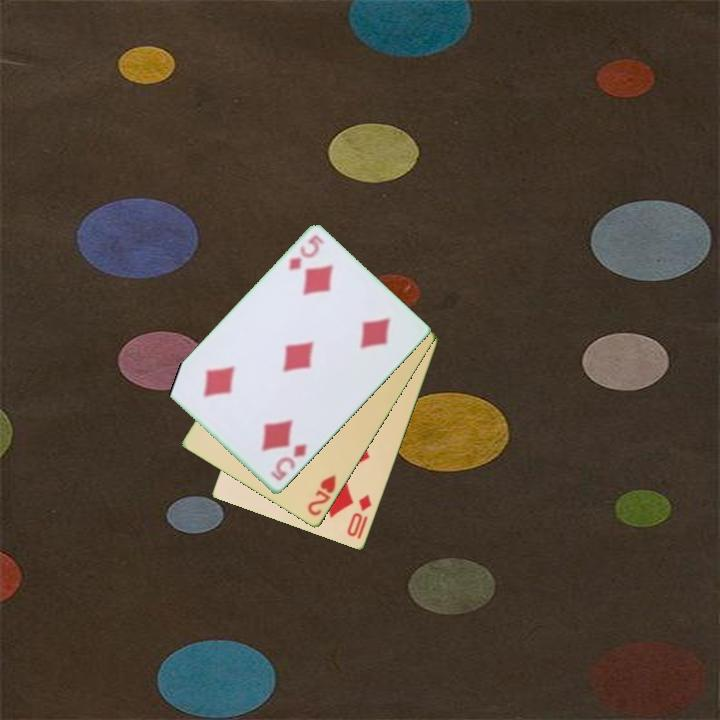10d: (343, 491, 375, 540)
2h: (304, 471, 339, 519)
5d: (267, 440, 310, 484), (285, 232, 327, 274)
